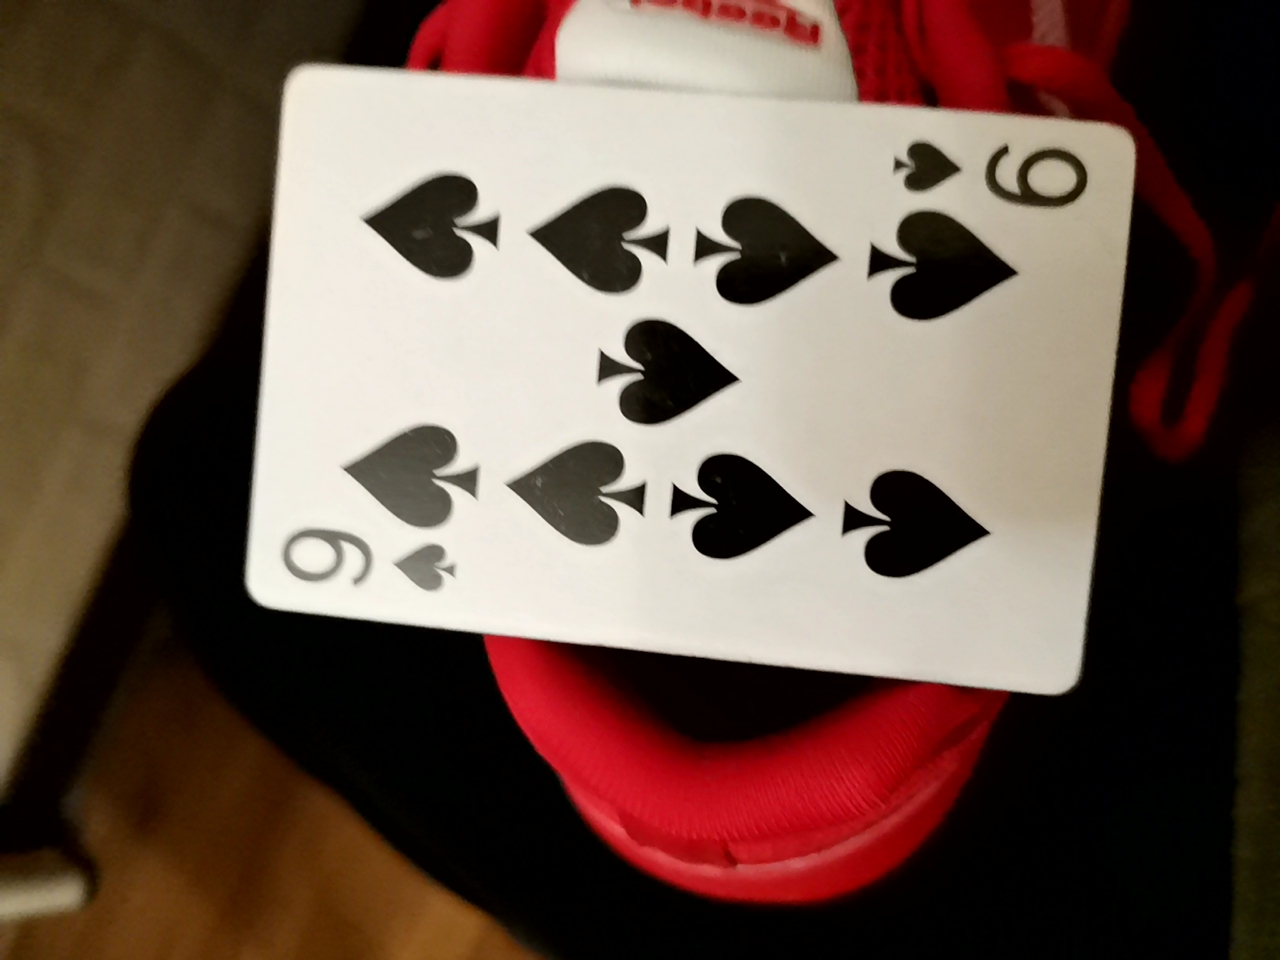ht 9: (245, 84, 1107, 703)
